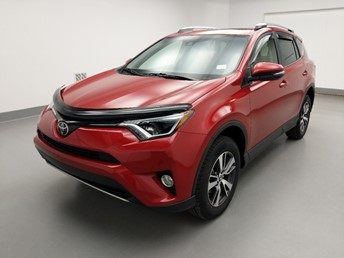Toyota RAV-4: (31, 23, 318, 222)
